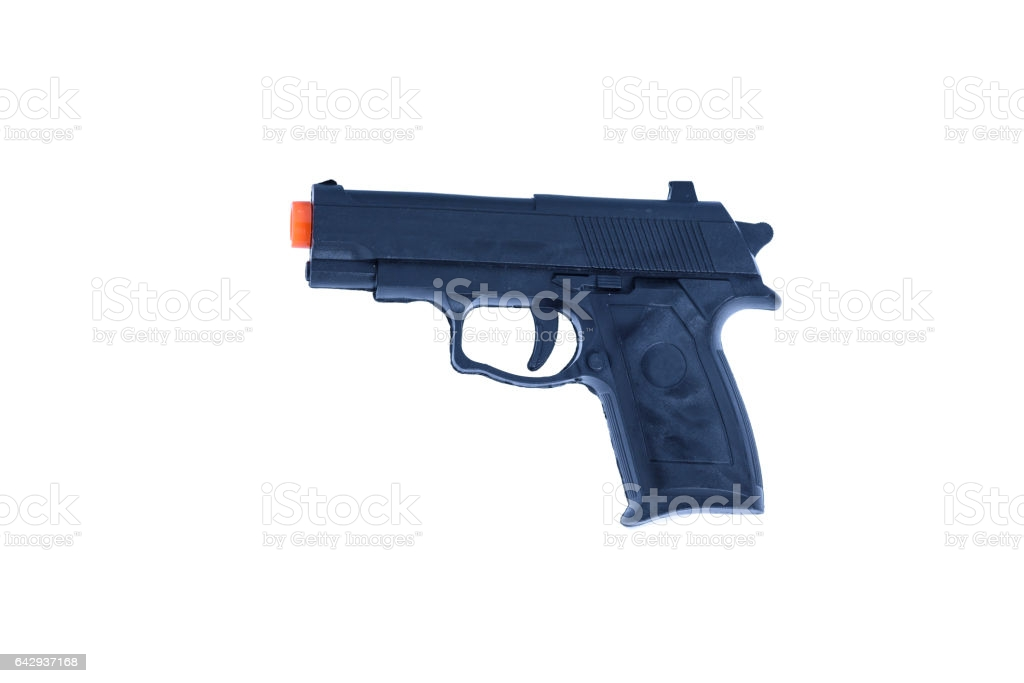Arma Falsa: (269, 170, 770, 526)
